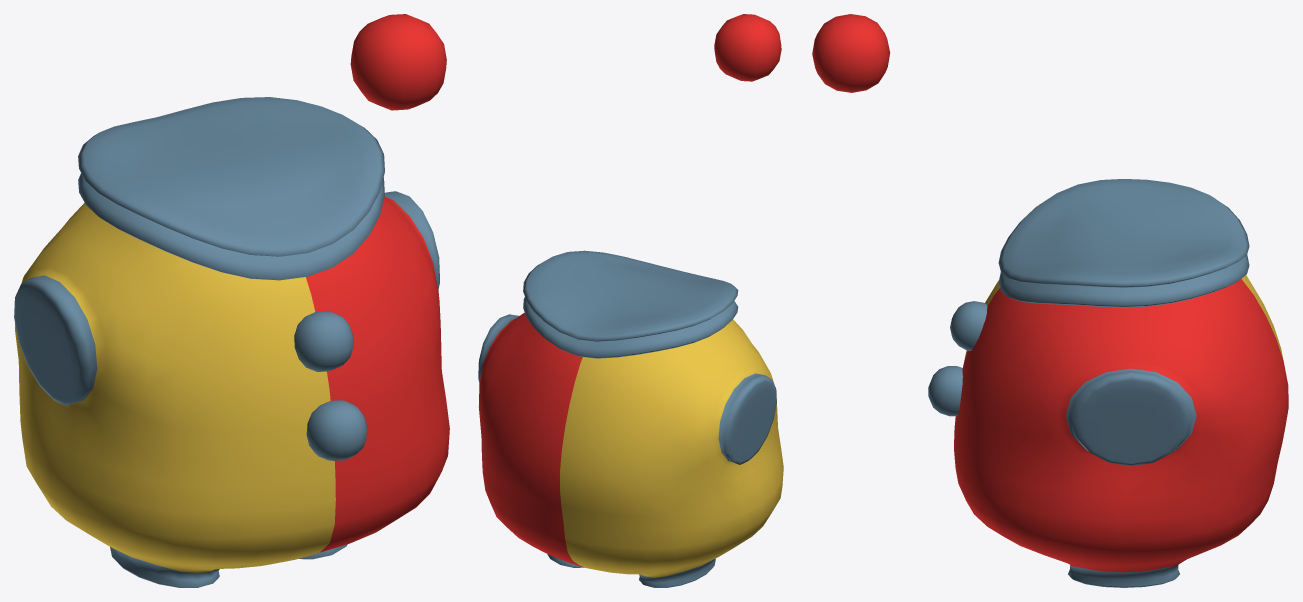
3 renders of one model, left to right at view 1: azimuth 30°, elevation 25°; view 2: azimuth 150°, elevation 25°; view 3: azimuth 270°, elevation 25°, orthographic. The views are drawn at different scales.
Parts seen in each view (by area): view 1: clown_cloth; view 2: clown_cloth; view 3: clown_cloth.
Boxes of the visible parts, x1,y1,x2,y2 form: clown_cloth: (14,14,449,587); clown_cloth: (478,14,783,587); clown_cloth: (812,14,1288,587).
Bounding box in the file's own units: 1.43 × 2.42 × 1.95.
